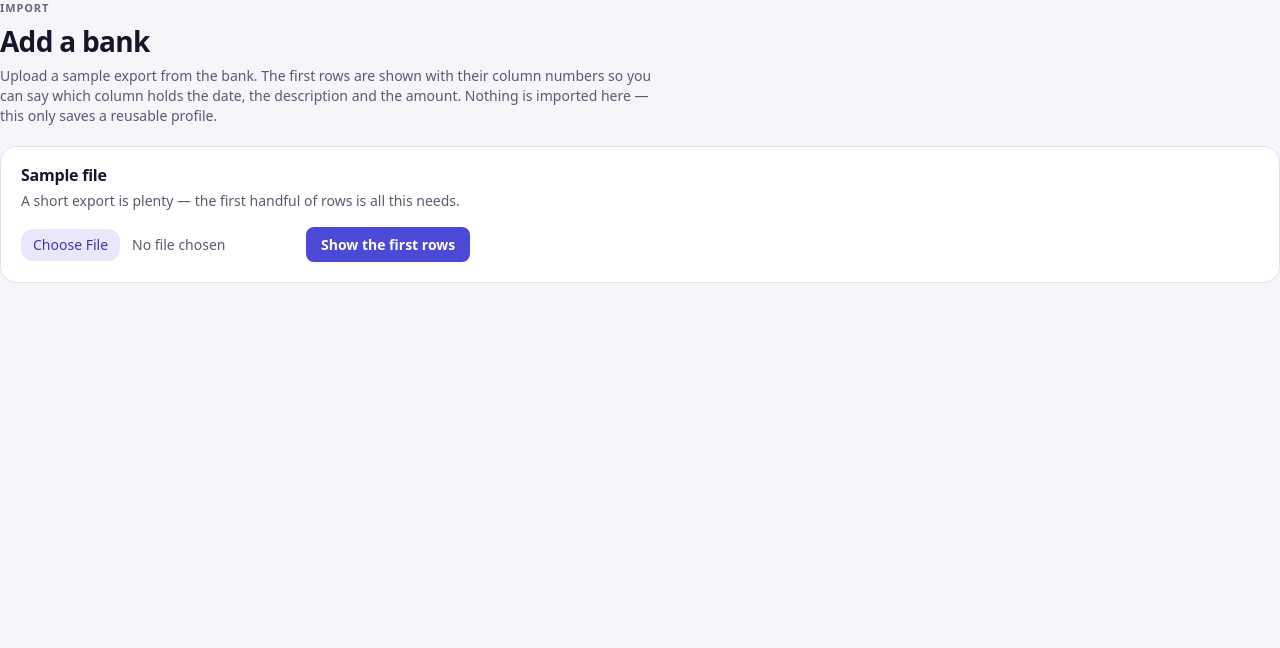
it: WizardClient — date format detection reaches the new-bank wizard too › offers the detected format as a one-click switch when it disagrees with the starter mapping
The image size is (1280, 648).
Submit the form, box [21,227,470,262]
(page scrolled)
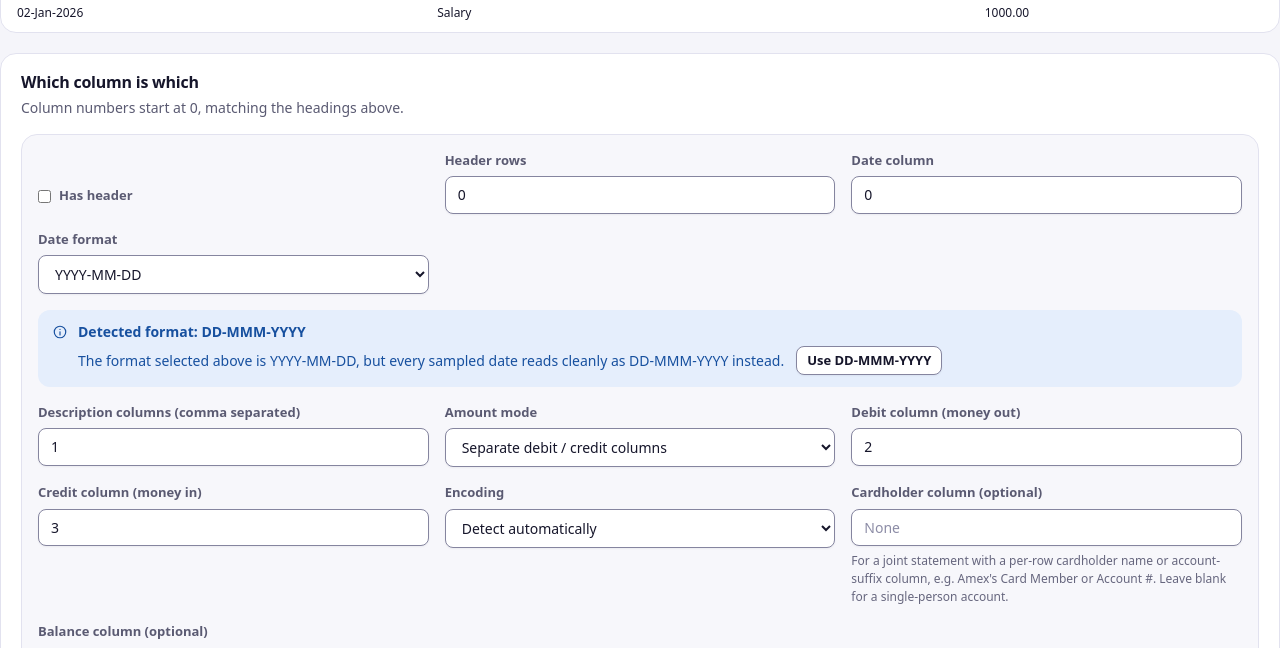
Check: the heading "Which column is which" is shown, box [21,71,199,93]
Check: the text "Detected format: DD-MMM-YYYY" is shown, box [78,322,306,341]
Check: the dropdown labelled "Date format" shows "YYYY-MM-DD", box [38,255,429,294]
Click the button "Use DD-MMM-YYYY" at (869, 361), box [796,346,942,375]
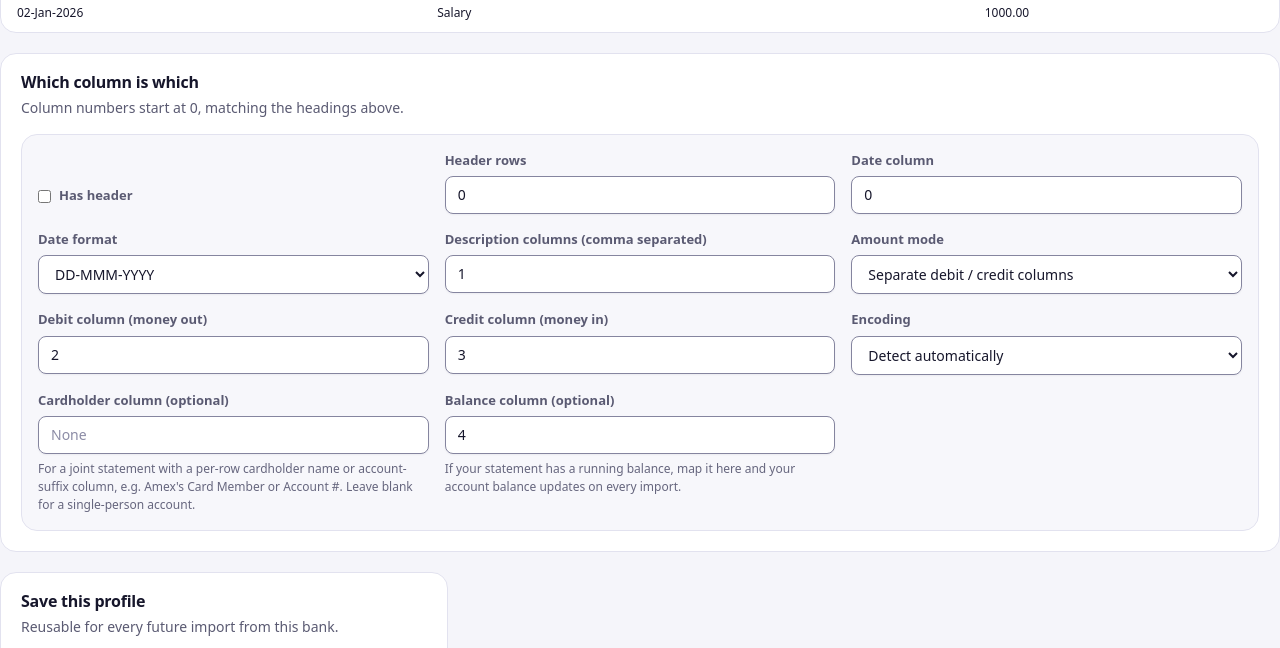
Check: the dropdown labelled "Date format" shows "DD-MMM-YYYY", box [38,255,429,294]
